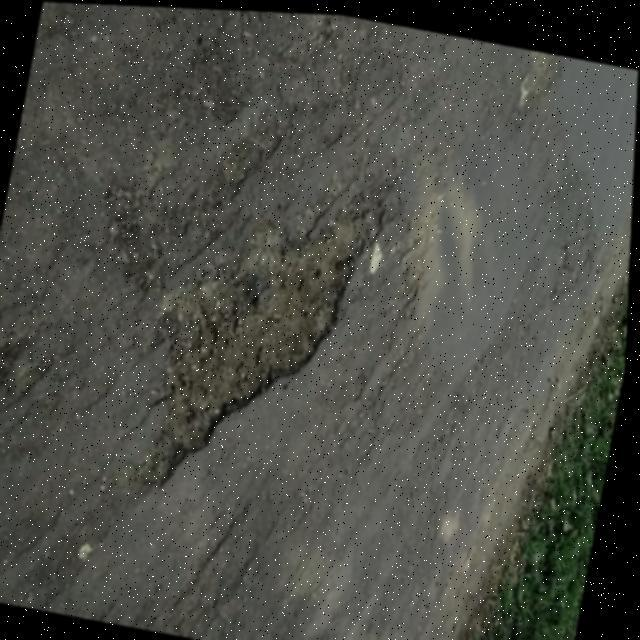pothole: (126, 149, 394, 521)
